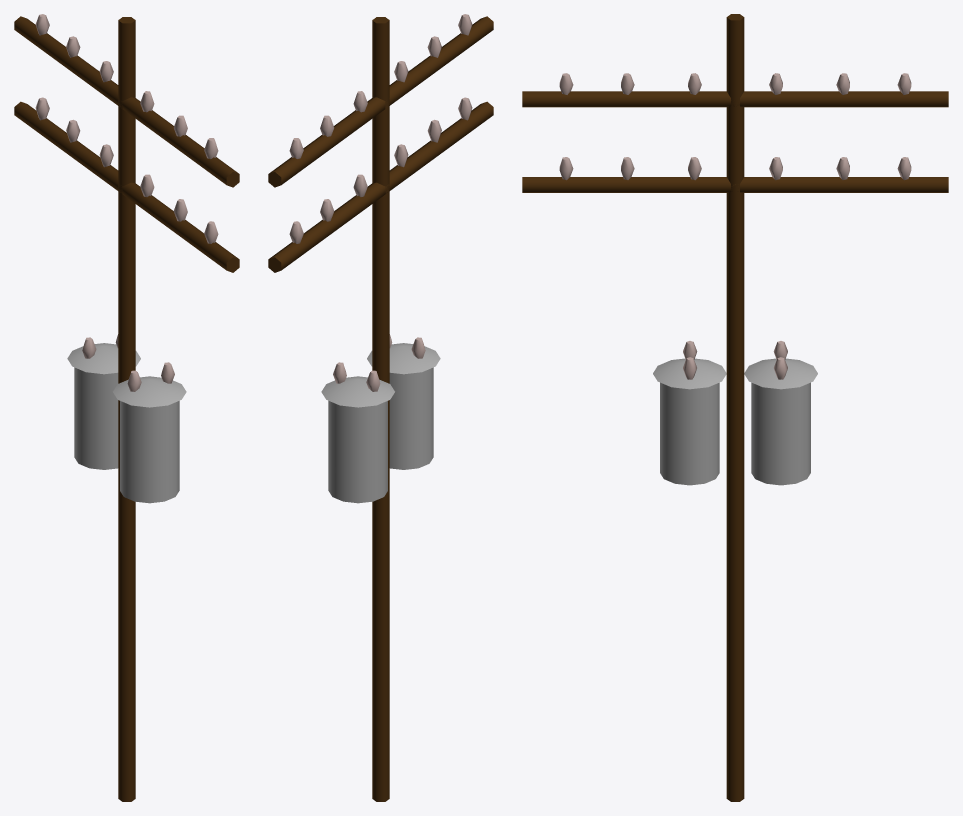
Rendered from столб.fbx.
The picture shows the model from 3 angles, left to right: view 1: azimuth 30°, elevation 25°; view 2: azimuth 150°, elevation 25°; view 3: azimuth 270°, elevation 25°; orthographic projection.
Visible parts, largest first — view 1: Cylinder.001; view 2: Cylinder.001; view 3: Cylinder.001.
Part boxes in pixels (x1,y1,x2,y2): Cylinder.001: (14, 14, 239, 801); Cylinder.001: (268, 14, 493, 801); Cylinder.001: (522, 14, 948, 801).
Bounding box in the file's own units: 51.65 × 600 × 297.
